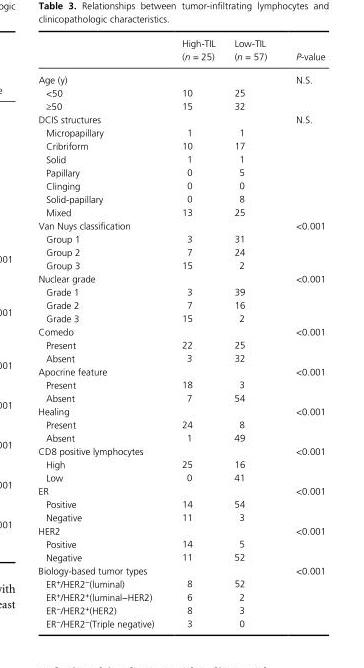table: (37, 37, 324, 628)
table column: (37, 37, 167, 628), (167, 37, 224, 628), (224, 37, 280, 628), (280, 37, 324, 628)
table column header: (37, 37, 324, 67)
table row: (37, 37, 324, 67), (37, 67, 324, 85), (37, 98, 324, 112), (37, 138, 324, 152), (37, 191, 324, 205), (37, 231, 324, 245), (37, 284, 324, 298), (37, 337, 324, 351), (37, 390, 324, 404), (37, 430, 324, 444), (37, 470, 324, 484), (37, 536, 324, 550), (37, 602, 324, 616), (37, 85, 324, 98), (37, 112, 324, 125), (37, 125, 324, 138), (37, 152, 324, 165), (37, 165, 324, 178), (37, 178, 324, 191), (37, 205, 324, 218), (37, 218, 324, 231), (37, 245, 324, 258), (37, 258, 324, 271), (37, 271, 324, 284), (37, 298, 324, 311), (37, 311, 324, 324), (37, 324, 324, 337), (37, 351, 324, 364), (37, 364, 324, 377), (37, 377, 324, 390), (37, 404, 324, 417), (37, 417, 324, 430), (37, 444, 324, 457), (37, 457, 324, 470), (37, 484, 324, 497), (37, 497, 324, 510), (37, 510, 324, 523), (37, 523, 324, 536), (37, 550, 324, 563), (37, 563, 324, 576), (37, 576, 324, 589), (37, 589, 324, 602), (37, 616, 324, 628)
table spanning cell: (37, 67, 280, 85), (37, 112, 280, 125), (37, 218, 280, 231), (37, 271, 280, 284), (37, 324, 280, 337), (37, 364, 280, 377), (37, 404, 280, 417), (37, 444, 280, 457), (37, 484, 280, 497), (37, 523, 280, 536), (37, 563, 280, 576)
